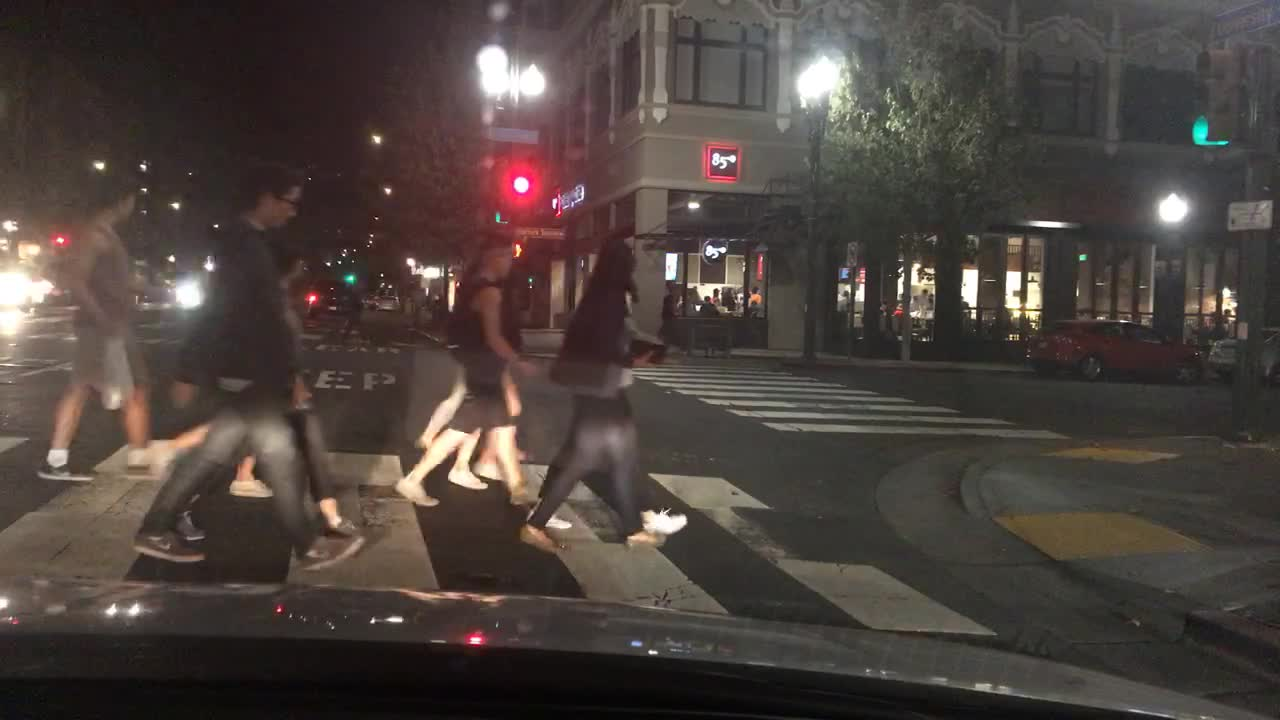car: (1025, 317, 1201, 381), (1208, 332, 1279, 381), (303, 278, 360, 314), (170, 273, 211, 308), (378, 291, 400, 310), (366, 294, 378, 306)
person: (130, 164, 367, 570), (173, 243, 357, 540), (519, 237, 667, 554), (522, 278, 688, 531), (393, 233, 539, 513), (36, 170, 166, 482), (156, 331, 272, 497), (416, 338, 502, 488), (699, 295, 720, 357), (658, 294, 676, 343)
traffic light: (1189, 45, 1243, 147), (491, 165, 511, 222), (512, 167, 535, 197), (52, 234, 70, 247), (512, 240, 525, 257), (344, 272, 356, 282)
traffic sign: (1229, 199, 1271, 233), (486, 126, 540, 141)
